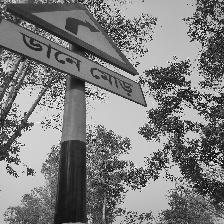Right-turn: (0, 1, 145, 108)
